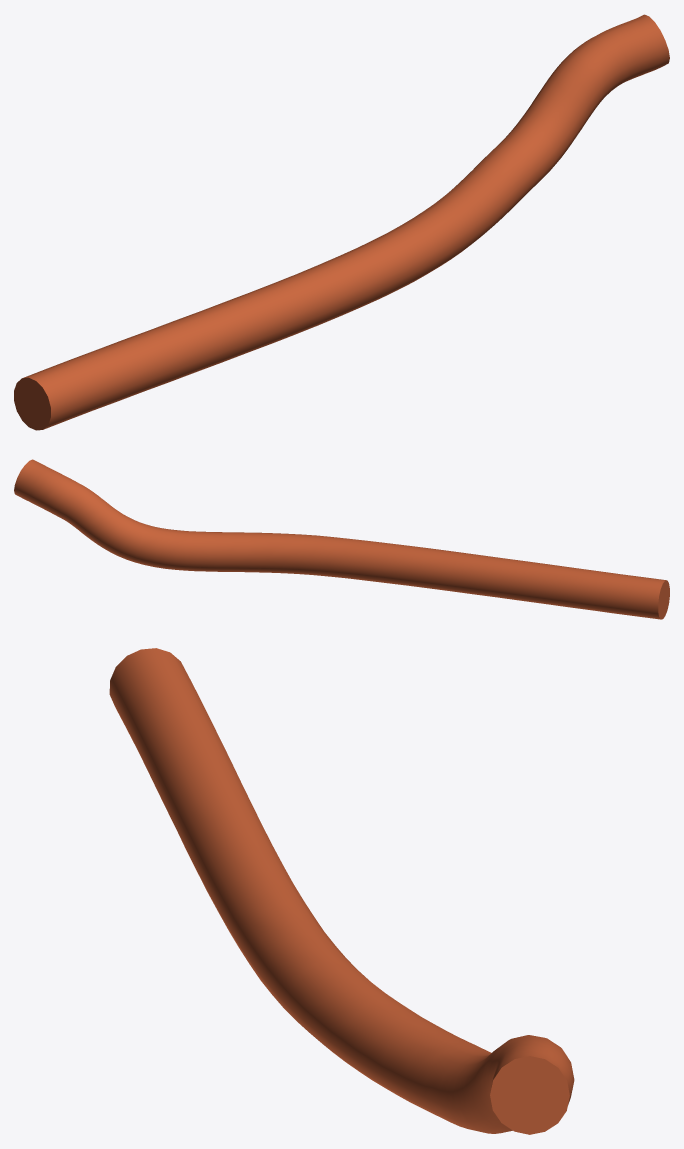
Rendered from gas-hose.glb.
3 views of the same model, one above another, from view 1: azimuth 30°, elevation 25°; view 2: azimuth 150°, elevation 25°; view 3: azimuth 270°, elevation 25° (orthographic). The views are drawn at different scales.
Visible parts, largest first — view 1: gas_hose; view 2: gas_hose; view 3: gas_hose.
Boxes of the visible parts, x1=… form: gas_hose: x1=14, y1=14, x2=669, y2=430; gas_hose: x1=14, y1=459, x2=669, y2=619; gas_hose: x1=109, y1=648, x2=574, y2=1134.
Bounding box in the file's own units: 133 × 22.15 × 48.67.
